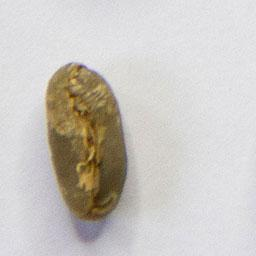peaberry: (42, 59, 132, 223)
